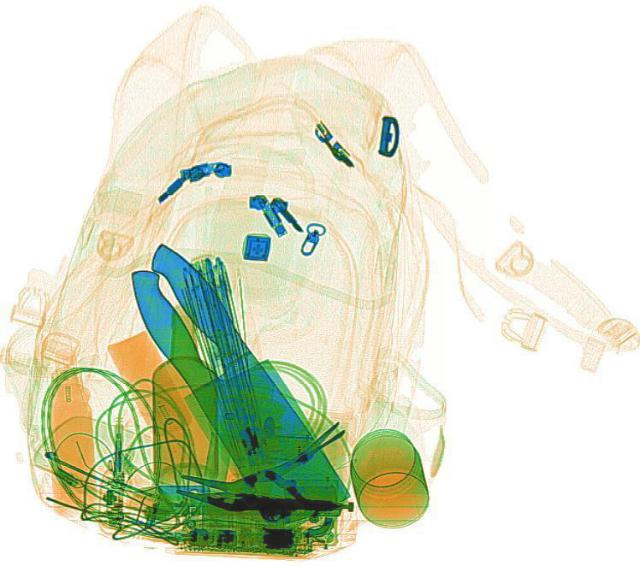Knife: (95, 234, 358, 535), (115, 243, 359, 533)
